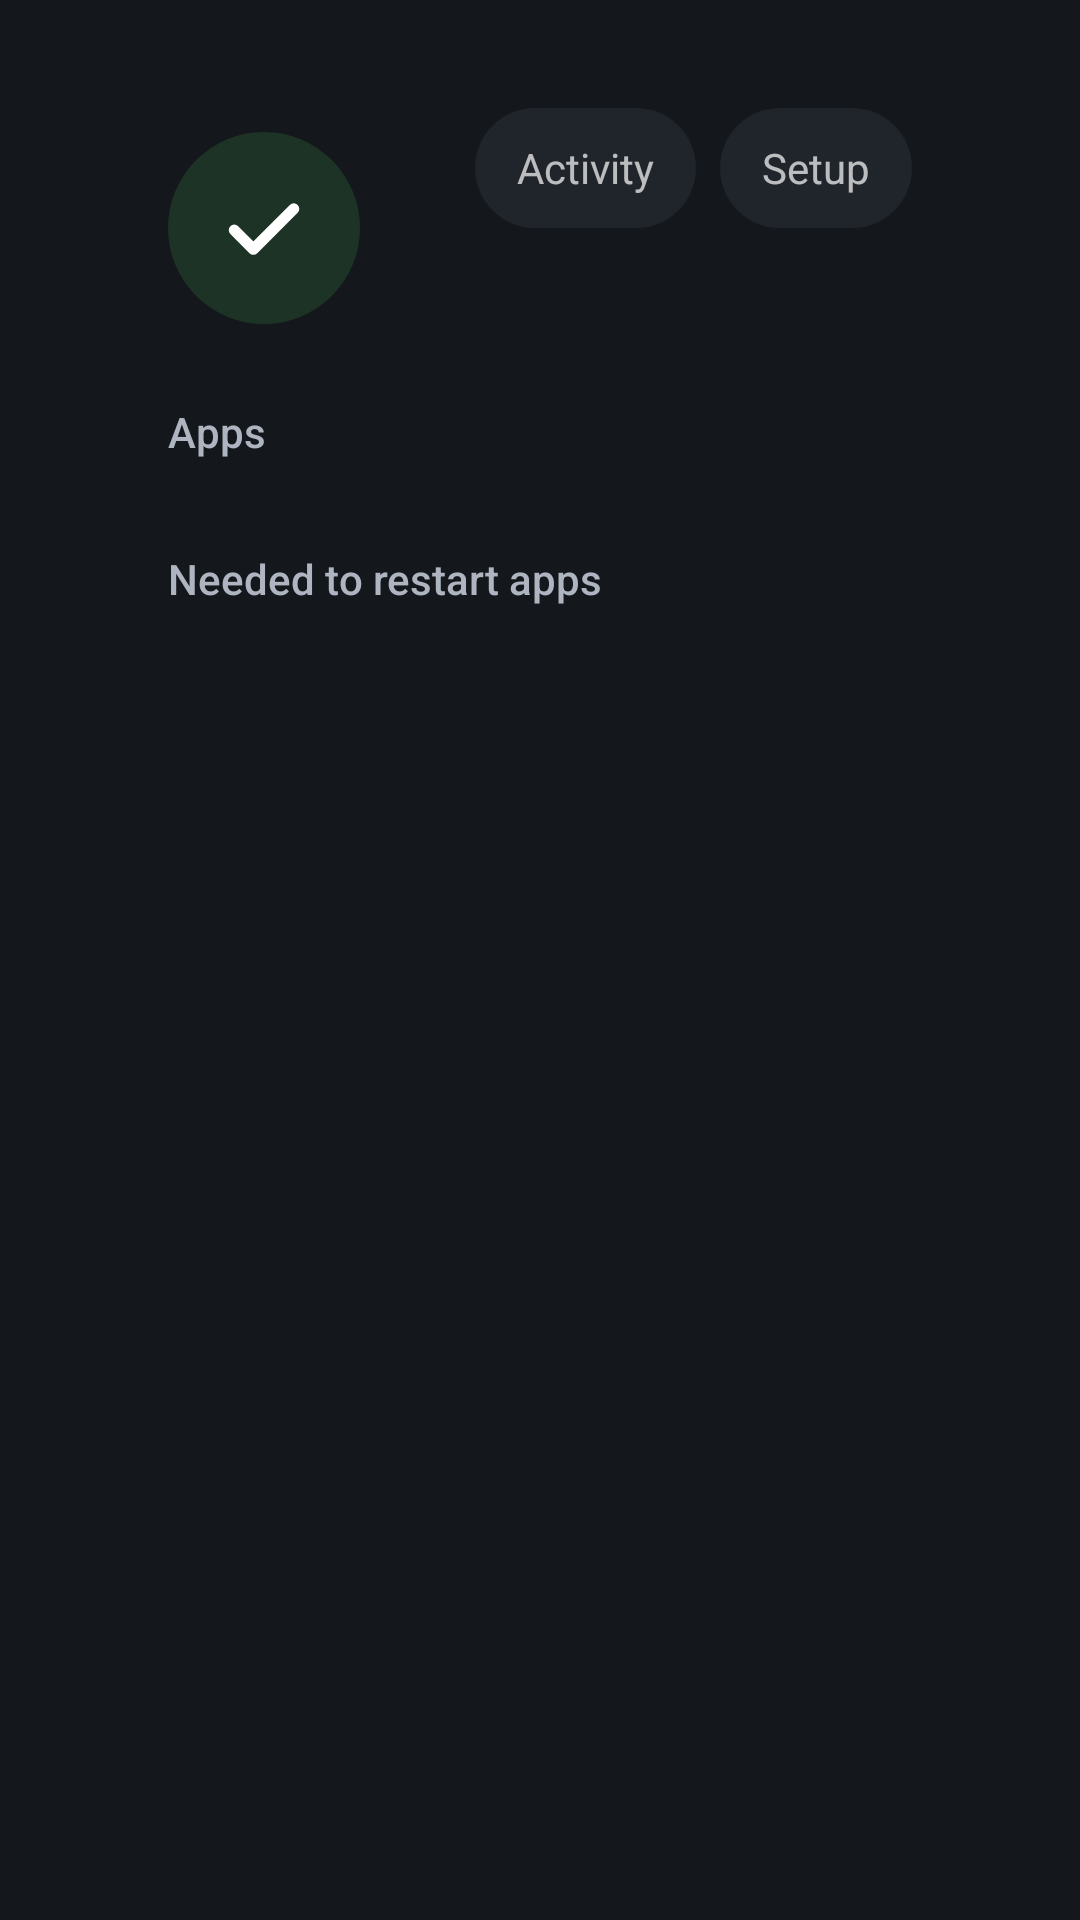

Point at icon controls on the screen. Image size 1080*1920, points as (x,y).
status ok: (264,229)
